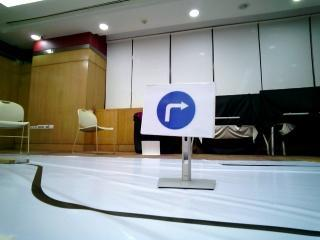right: (146, 84, 215, 133)
